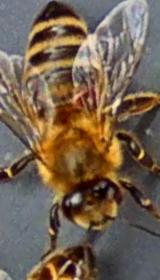varroa_mite: (57, 79, 111, 119)
